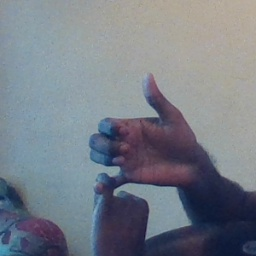S: (78, 71, 190, 240)
